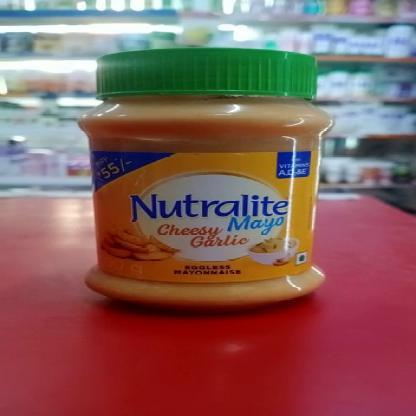Nutralite CHEESY GARLIC MAYO 300g-275g-25g-: (100, 58, 318, 290)
